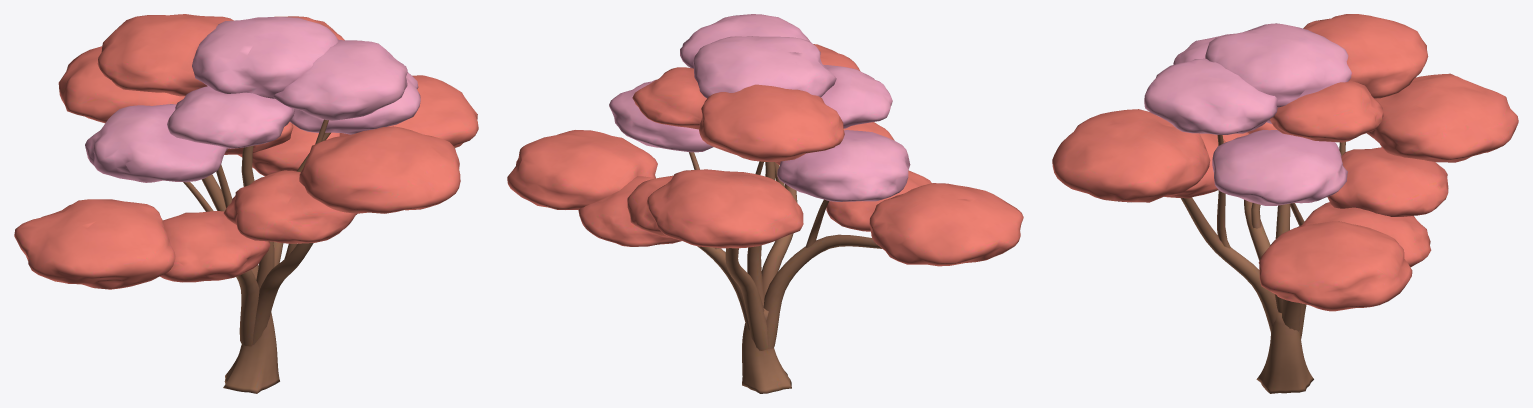
The model's file is maple-tree.obj.
3 renders of one model, left to right at view 1: azimuth 30°, elevation 25°; view 2: azimuth 150°, elevation 25°; view 3: azimuth 270°, elevation 25°, orthographic. The views are drawn at different scales.
Parts seen in each view (by area): view 1: maple-tree_body; view 2: maple-tree_body; view 3: maple-tree_body.
Boxes of the visible parts, x1=… form: maple-tree_body: x1=14, y1=14, x2=478, y2=393; maple-tree_body: x1=507, y1=14, x2=1023, y2=393; maple-tree_body: x1=1052, y1=14, x2=1518, y2=393.
Bounding box in the file's own units: 6.78 × 4.73 × 5.71.
Materials: 1 (1 with a texture image).
